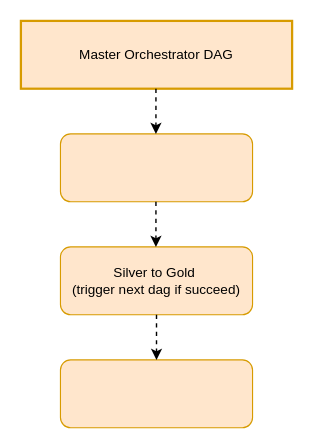
This 312x447 diagram has some shape labels left out. The shapes that lost their labels are listed below. From the top down, each one's centre as x and y in pixels, then its label:
At point (156, 167): "Bronze to Silver (trigger next dag if succeed)".
At point (156, 393): "Gold to Redshift (BI ready data)".
